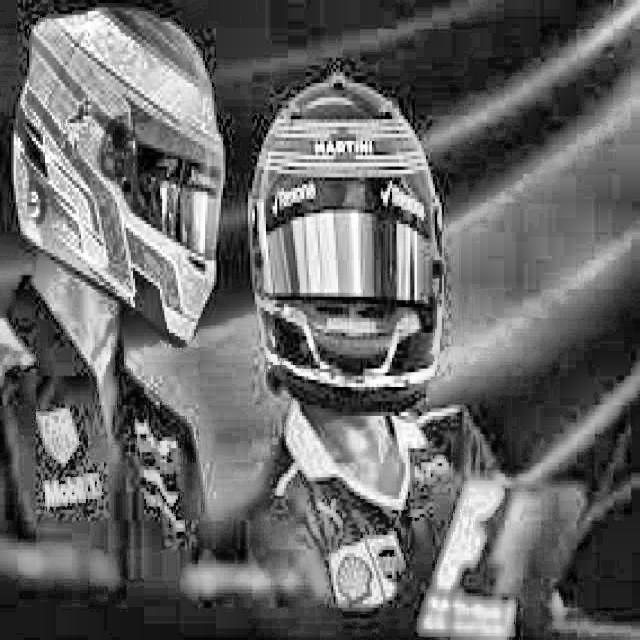Helmet: (0, 0, 229, 356), (234, 63, 463, 405)
